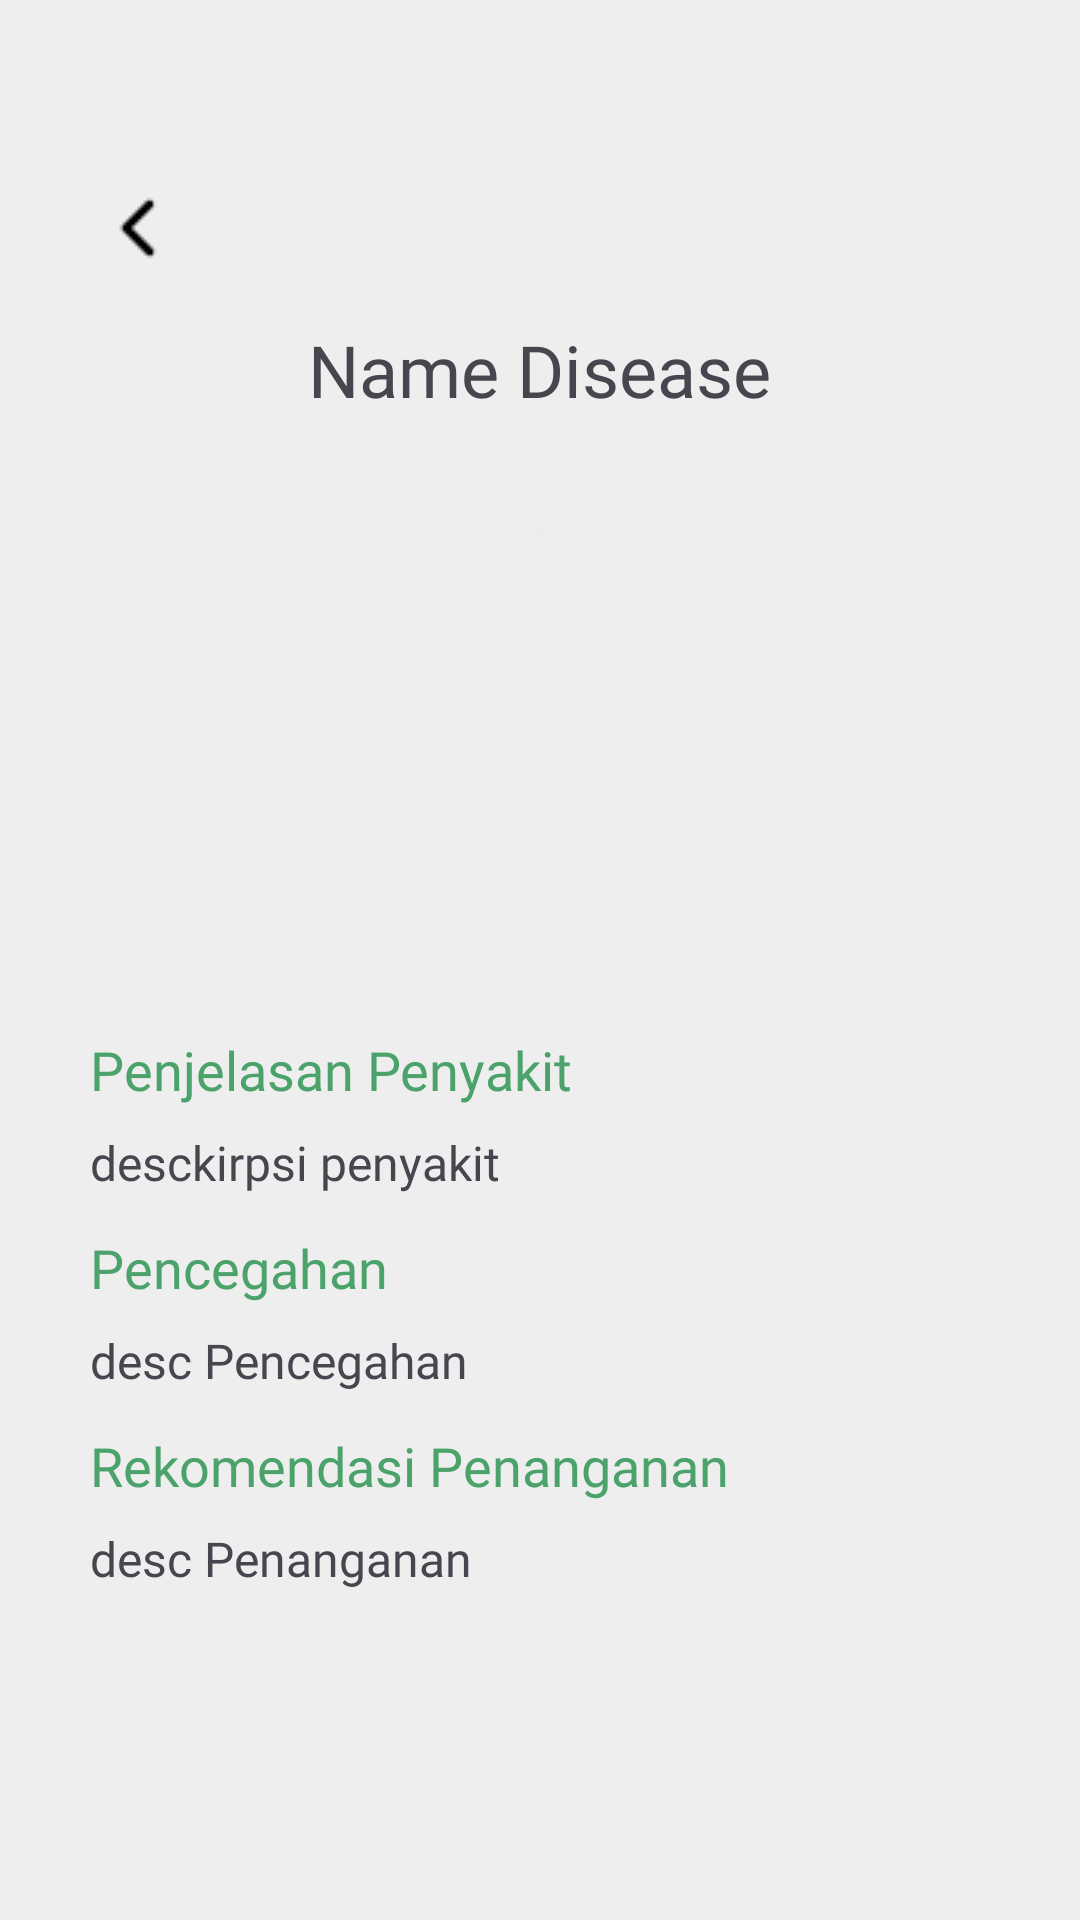

Screen size 1080x1920. Icon name, then its box in pixels as box=[x1, y1, x2, y2]:
back arrow: box=[120, 198, 156, 258]
